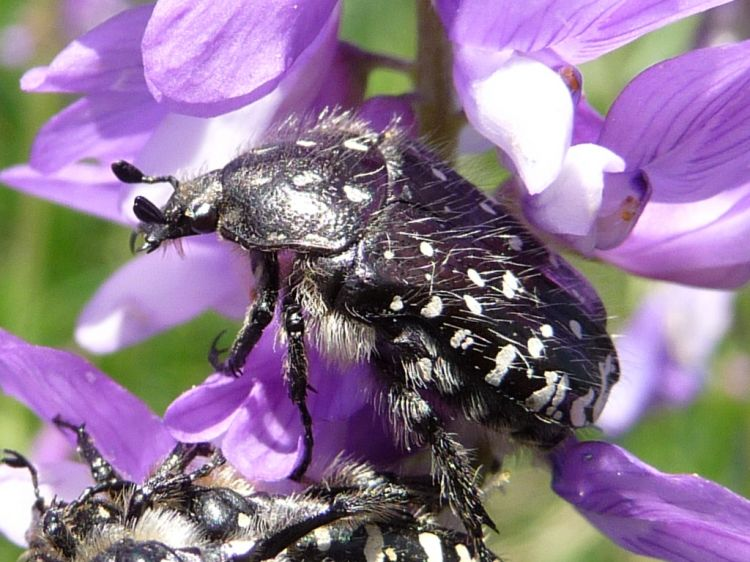Oxythyrea_funesta: (95, 95, 632, 552)
